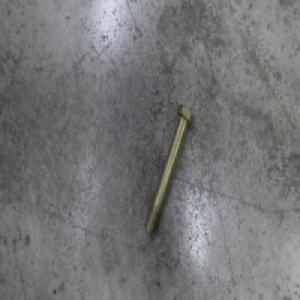Bolt: (144, 103, 195, 237)
